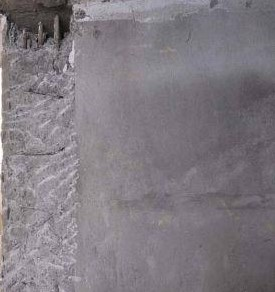Exposed reinforcement: (52, 12, 61, 45), (36, 20, 45, 48), (21, 27, 28, 50)
Spalling: (1, 1, 77, 72)
